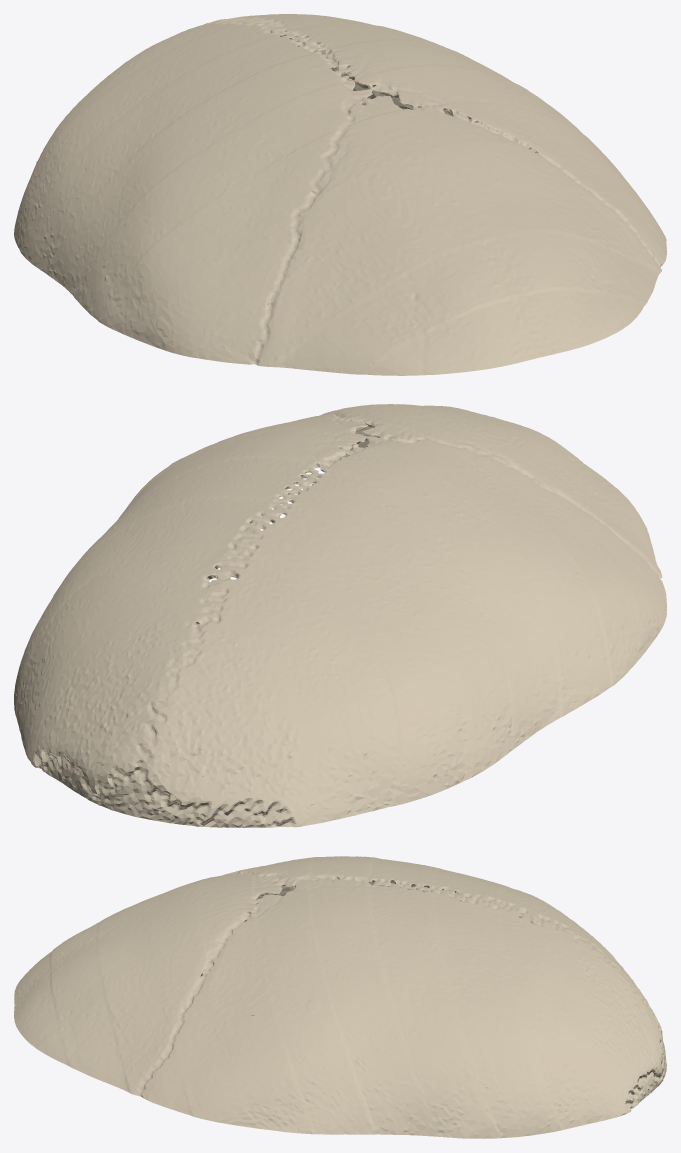
Rendered from calotte.glb.
3 renders of one model, top to bottom at view 1: azimuth 30°, elevation 25°; view 2: azimuth 150°, elevation 25°; view 3: azimuth 270°, elevation 25°, orthographic. The views are drawn at different scales.
Parts seen in each view (by area): view 1: MeshLab decimated.012; view 2: MeshLab decimated.012; view 3: MeshLab decimated.012.
Part boxes in pixels (box(x1,y1,x2,y2)): MeshLab decimated.012: box(14, 14, 666, 375); MeshLab decimated.012: box(14, 404, 666, 827); MeshLab decimated.012: box(14, 856, 666, 1138).
Bounding box in the file's own units: 34.08 × 14.13 × 45.36.
